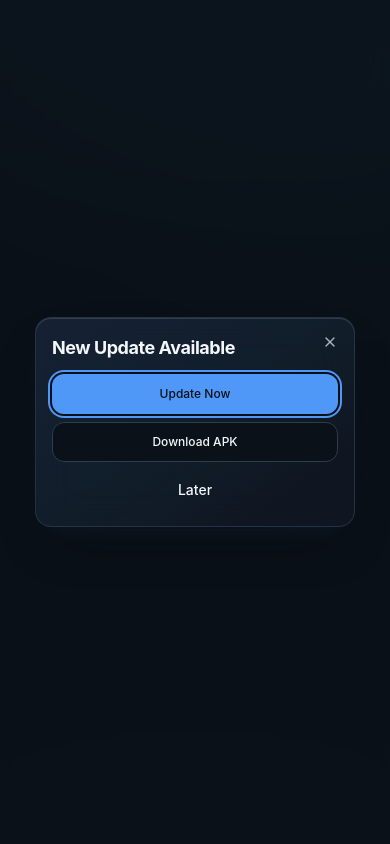
AppUpdateManager › shows Android-paused download state without falsely marking completion
This screenshot has width=390, height=844.
Check: the heading "New Update Available" is shown, box [52,337,235,358]
Click the button "Download APK": point(195, 442) [52,422,338,462]
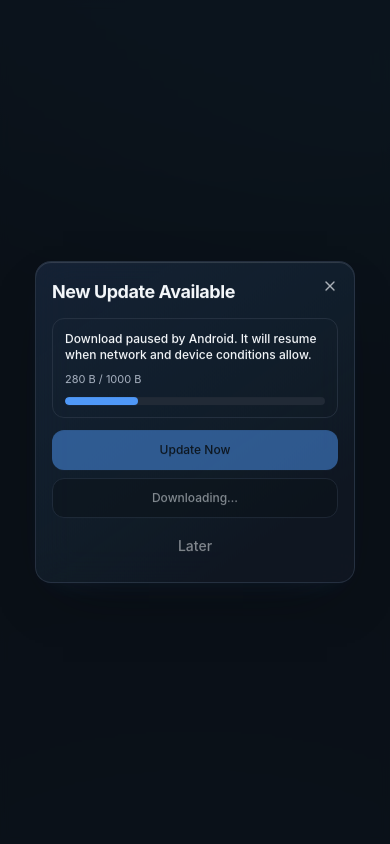
Check: the text "Download paused by Android" is shown, box [65,331,316,362]
Check: the button "Update Now" is disabled, box [52,430,338,470]
